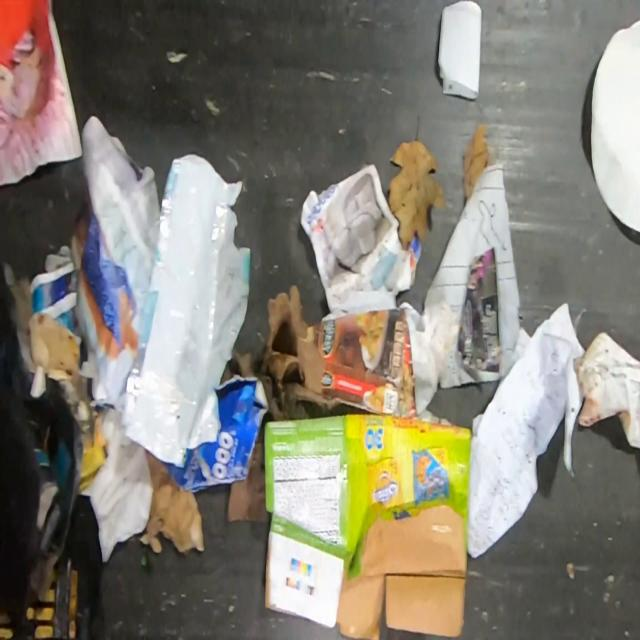cardboard: (264, 413, 470, 637), (259, 285, 458, 417), (138, 449, 204, 552)
soft_plastic: (124, 153, 252, 471)
